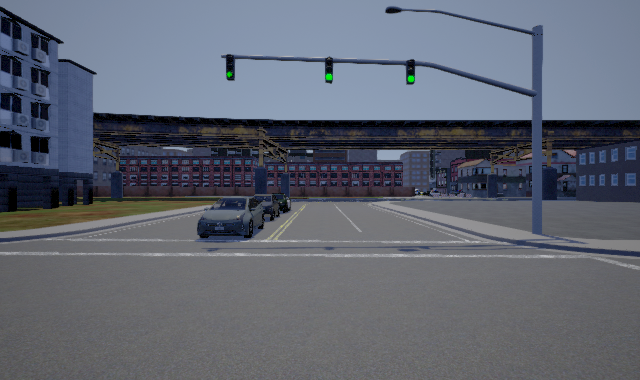traffic_light: (226, 54, 235, 81), (406, 59, 415, 85), (325, 56, 333, 84)
vehicle: (197, 188, 263, 238), (252, 192, 290, 218)
